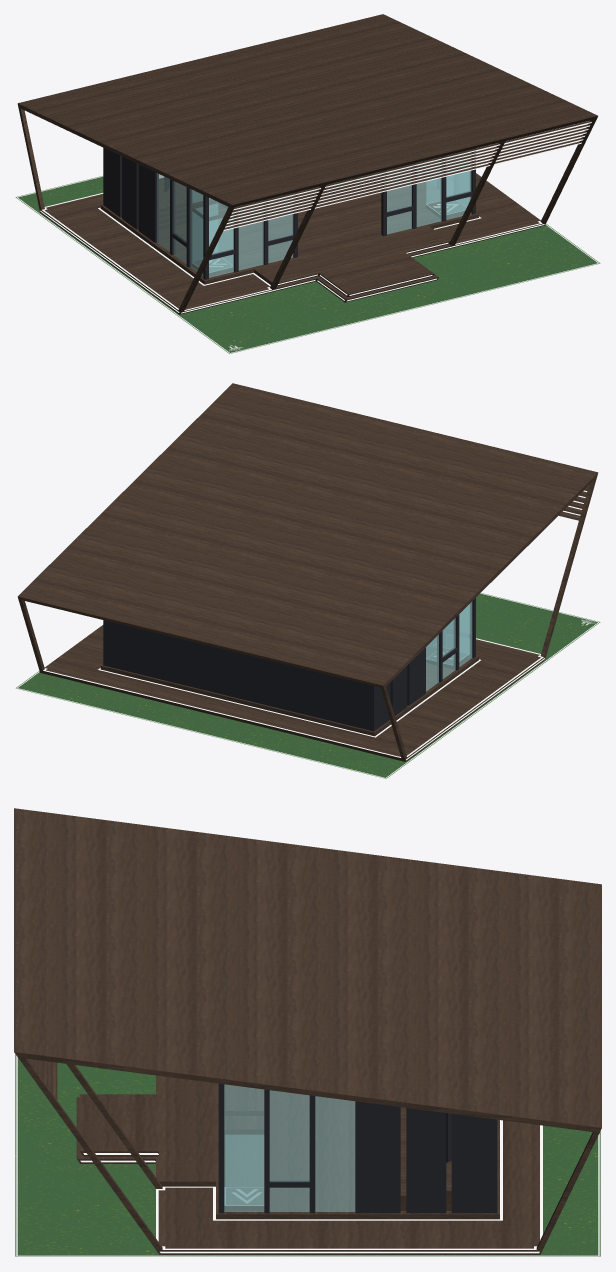
The model's file is Dhingia Builds 24 Size 2x1.glb.
The picture shows the model from 3 angles, top to bottom: view 1: azimuth 30°, elevation 25°; view 2: azimuth 150°, elevation 25°; view 3: azimuth 270°, elevation 25°; orthographic projection. The views are drawn at different scales.
Visible parts, largest first — view 1: OuterShell, Mesh_0, Difference.001, Difference, Mesh_1, Mesh_5, Mesh_7; view 2: OuterShell, Difference, Mesh_0, Difference.001, Mesh_5; view 3: OuterShell, Mesh_0, Difference, Difference.001, Mesh_5, Mesh_7, Mesh_1.
Part boxes in pixels (left/top/right/bottom): OuterShell: left=17, top=14, right=597, bottom=314; Mesh_0: left=14, top=175, right=601, bottom=354; Difference.001: left=157, top=152, right=471, bottom=277; Difference: left=103, top=148, right=475, bottom=279; Mesh_1: left=223, top=121, right=591, bottom=230; Mesh_5: left=192, top=157, right=469, bottom=276; Mesh_7: left=159, top=178, right=226, bottom=229; OuterShell: left=17, top=383, right=598, bottom=761; Difference: left=103, top=598, right=475, bottom=731; Mesh_0: left=14, top=592, right=601, bottom=779; Difference.001: left=426, top=602, right=472, bottom=691; Mesh_5: left=426, top=604, right=469, bottom=668; OuterShell: left=14, top=808, right=601, bottom=1254; Mesh_0: left=14, top=1052, right=601, bottom=1257; Difference: left=218, top=1083, right=497, bottom=1213; Difference.001: left=224, top=1084, right=355, bottom=1211; Mesh_5: left=224, top=1084, right=263, bottom=1210; Mesh_7: left=400, top=1107, right=451, bottom=1210; Mesh_1: left=27, top=1059, right=57, bottom=1099.
Size of what is drawn, in the model's own units: 32 by 12.22 by 32.
6 materials, 2 textured.
